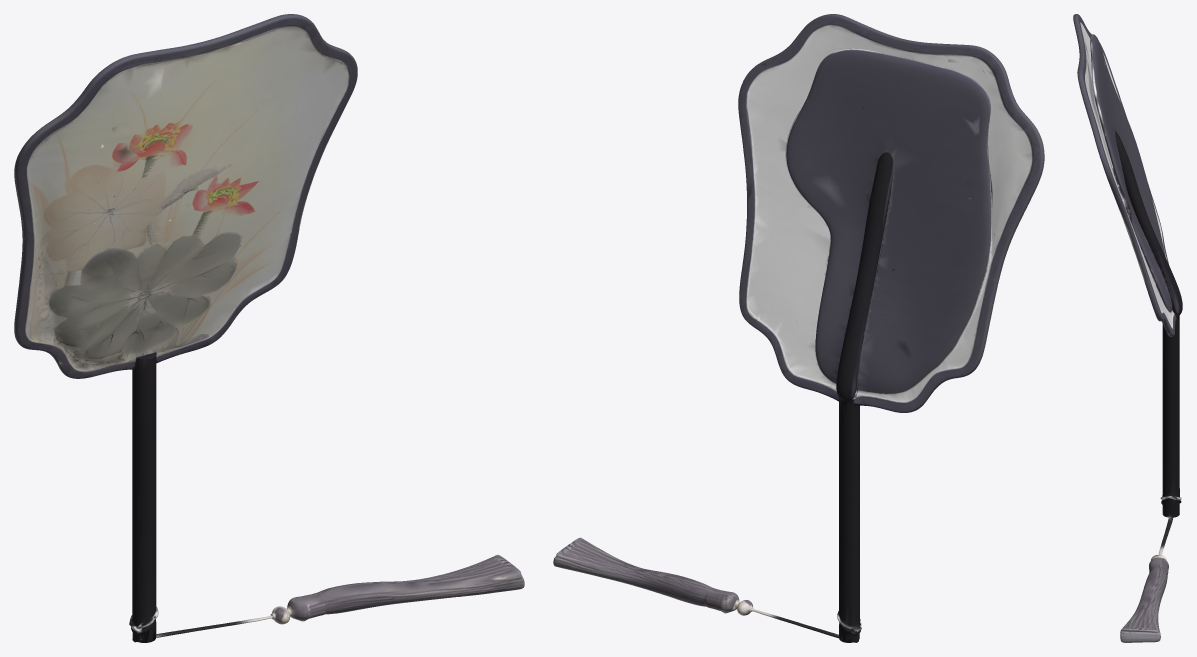
3 renders of one model, left to right at view 1: azimuth 30°, elevation 25°; view 2: azimuth 150°, elevation 25°; view 3: azimuth 270°, elevation 25°, orthographic. The views are drawn at different scales.
Parts seen in each view (by area): view 1: node_0; view 2: node_0; view 3: node_0.
Boxes of the visible parts, x1,y1,x2,y2 form: node_0: [14, 14, 524, 642]; node_0: [553, 14, 1044, 642]; node_0: [1073, 14, 1182, 642].
Bounding box in the file's own units: 0.7696 × 0.9305 × 0.1936.
1 material, 1 textured.
